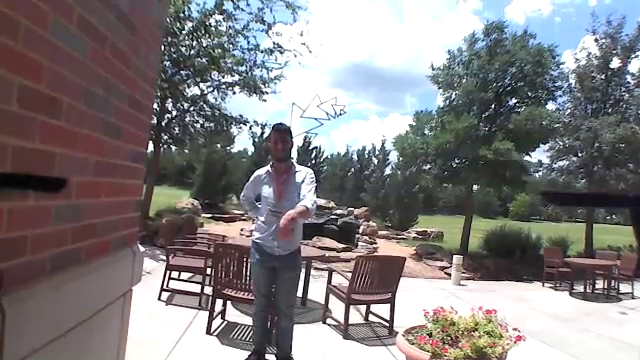down: (274, 210, 299, 244)
